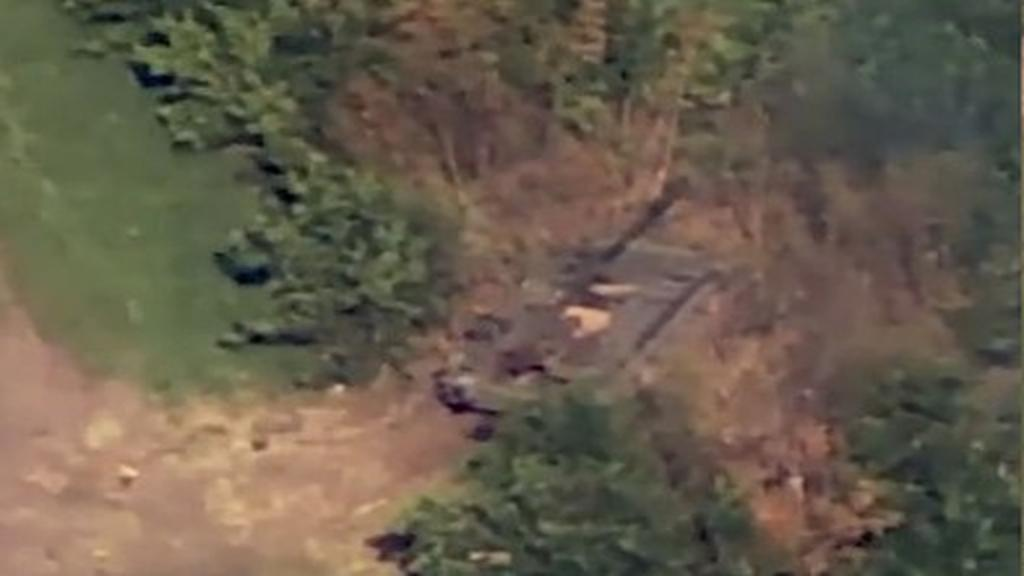ART: (422, 184, 732, 422)
